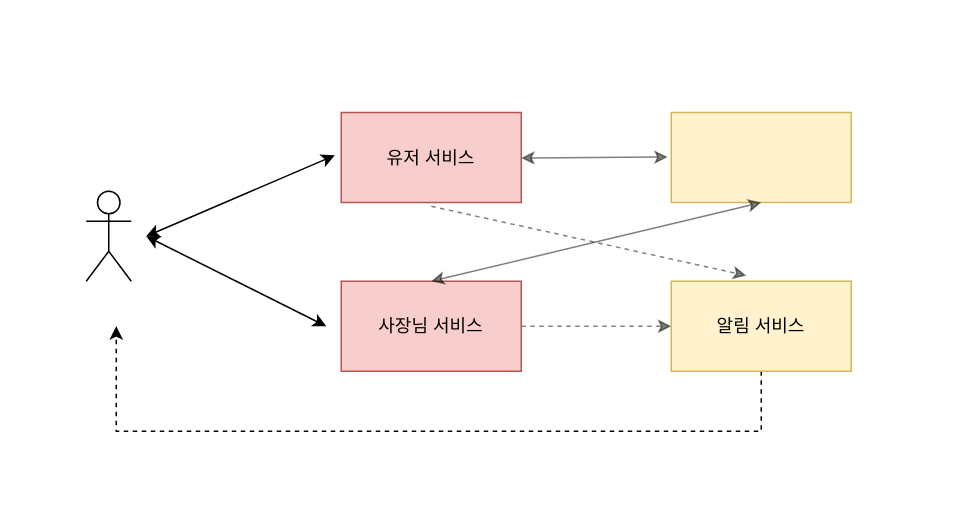
This 966x516 diagram has some shape labels left out. The shapes that lost their labels are listed below. From the top down, each one's centre as x and y in pixels, then its label:
the point at 760,156: 커뮤니티 서비스
the point at 108,235: 사용자
